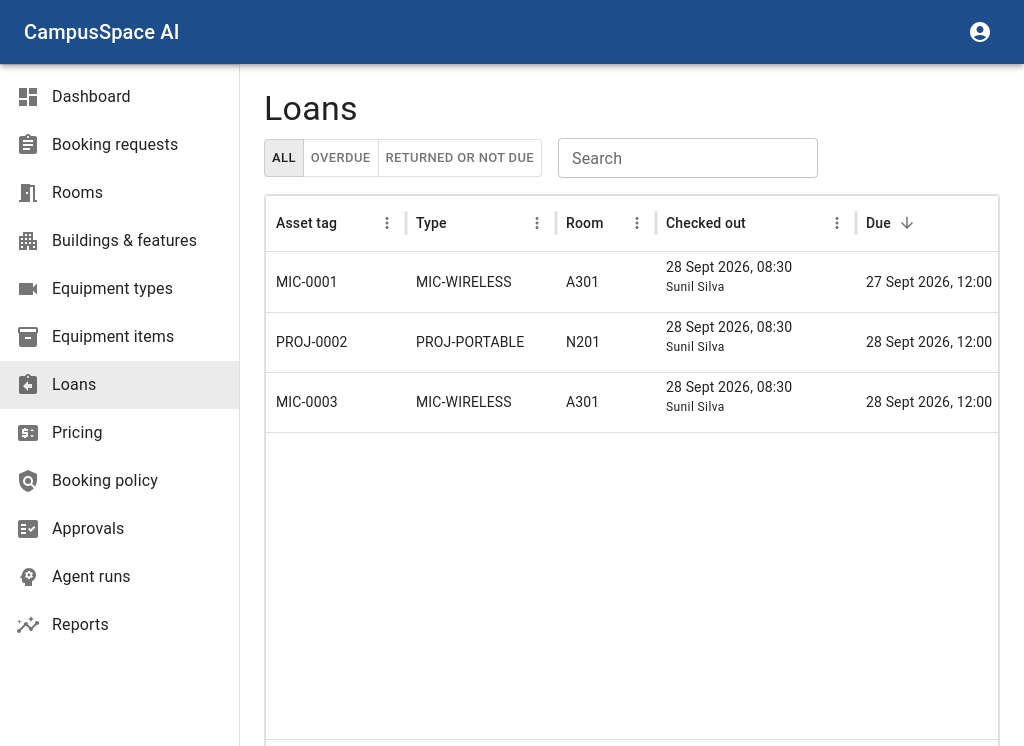
LoansPage › opens an overdue loan with its details and no photo
Click the text "MIC-0001": (307, 282) [276,274,338,290]
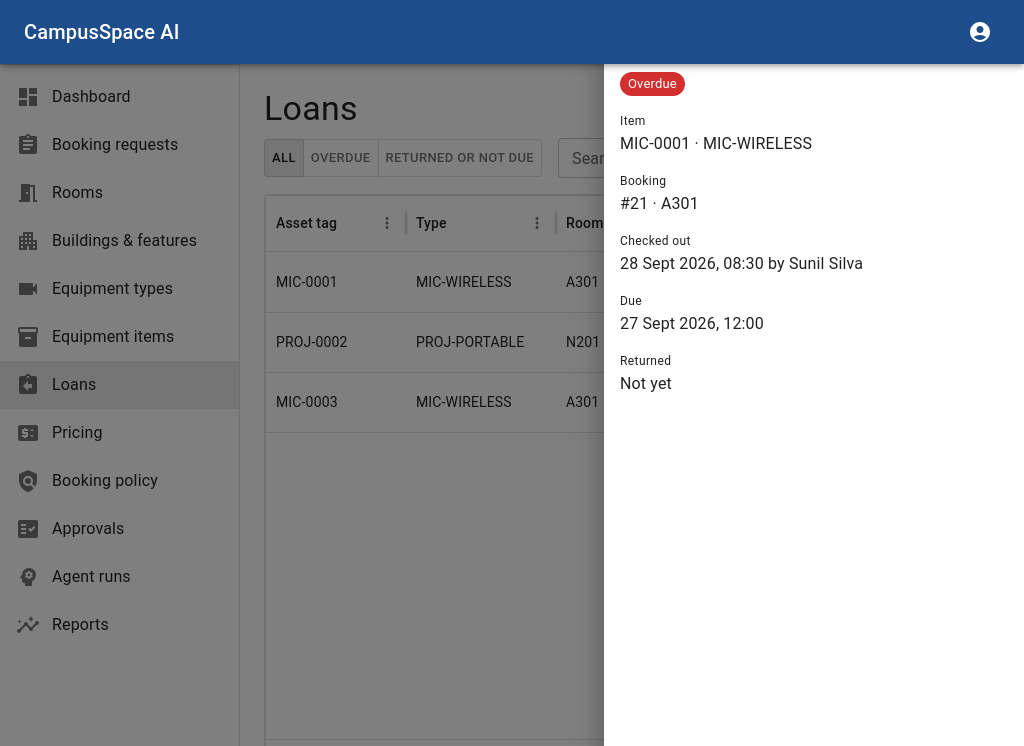
Expected: the text "MIC-0001 · MIC-WIRELESS" is shown, [620,134,812,153]
Expected: the text "#21 · A301" is shown, [620,194,699,213]
Expected: the text "Not yet" is shown, [620,374,672,393]
